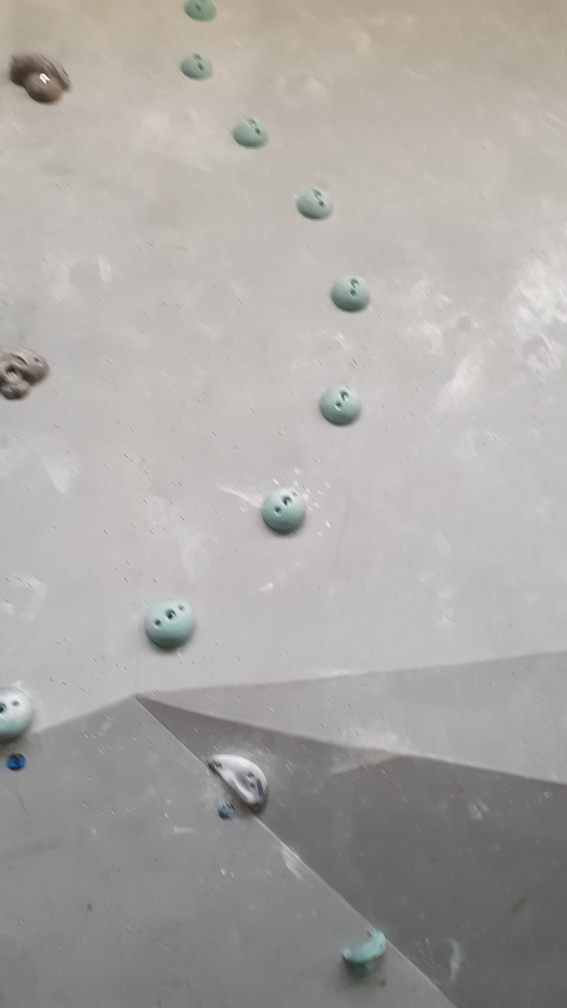Hand Start: (216, 799, 236, 822), (6, 753, 27, 773)
Jug: (6, 51, 75, 105), (1, 344, 56, 405), (341, 925, 390, 976)
Sloper: (144, 599, 197, 652), (261, 484, 310, 536), (1, 684, 38, 743), (318, 380, 362, 425), (331, 271, 373, 314), (293, 184, 336, 223), (233, 115, 271, 149), (179, 49, 215, 81), (181, 1, 221, 24)
